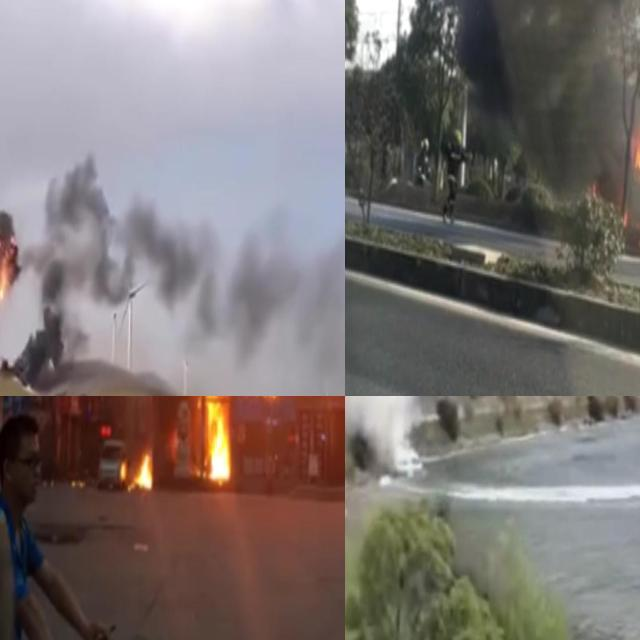fire: (206, 398, 230, 482), (122, 448, 154, 491), (0, 225, 16, 298), (631, 132, 640, 180)
smoke: (9, 145, 345, 390), (460, 0, 640, 215), (345, 396, 413, 469)
